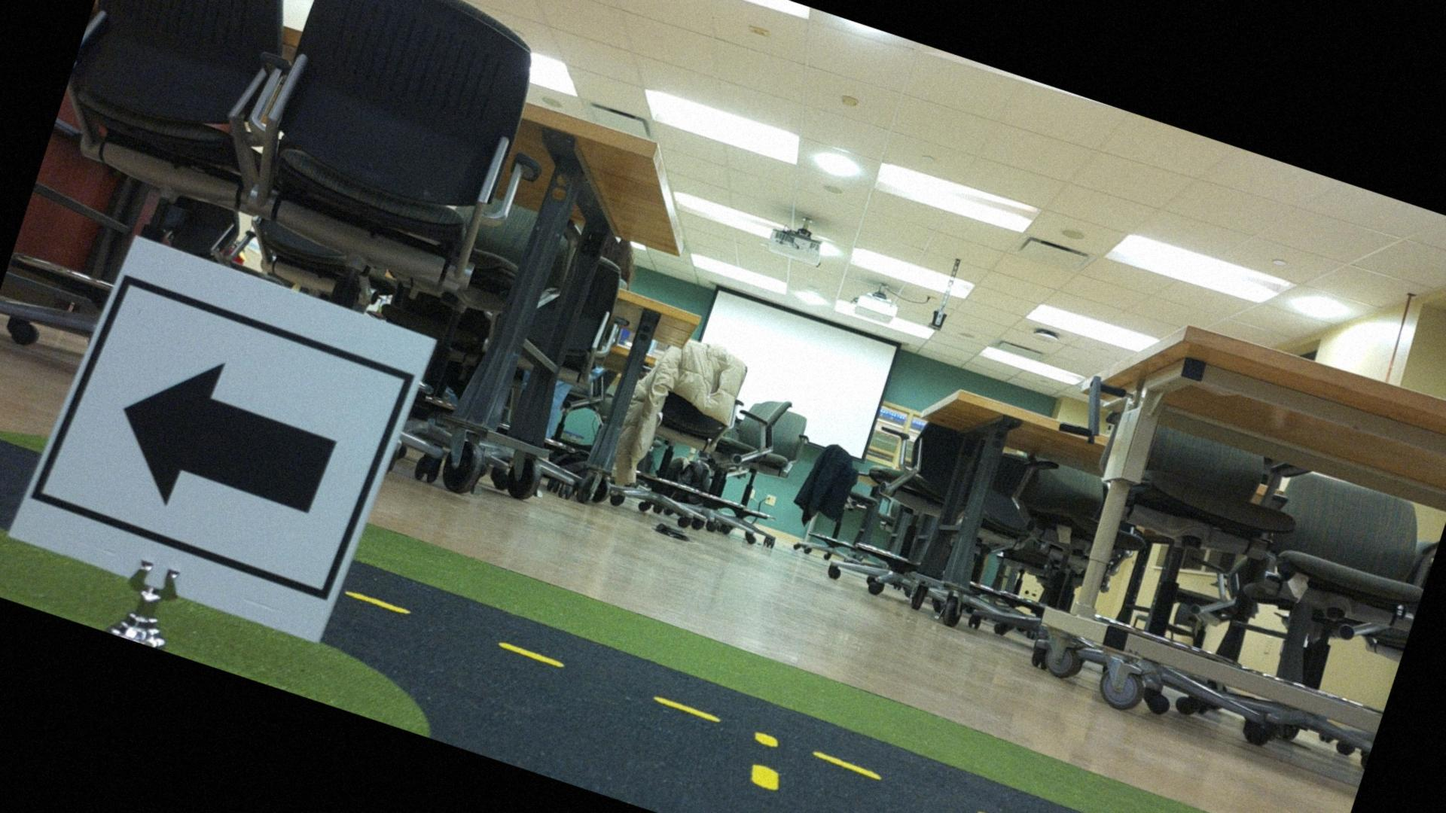turnleft: (29, 239, 431, 641)
yellowline: (351, 589, 1228, 812), (727, 760, 807, 812)
